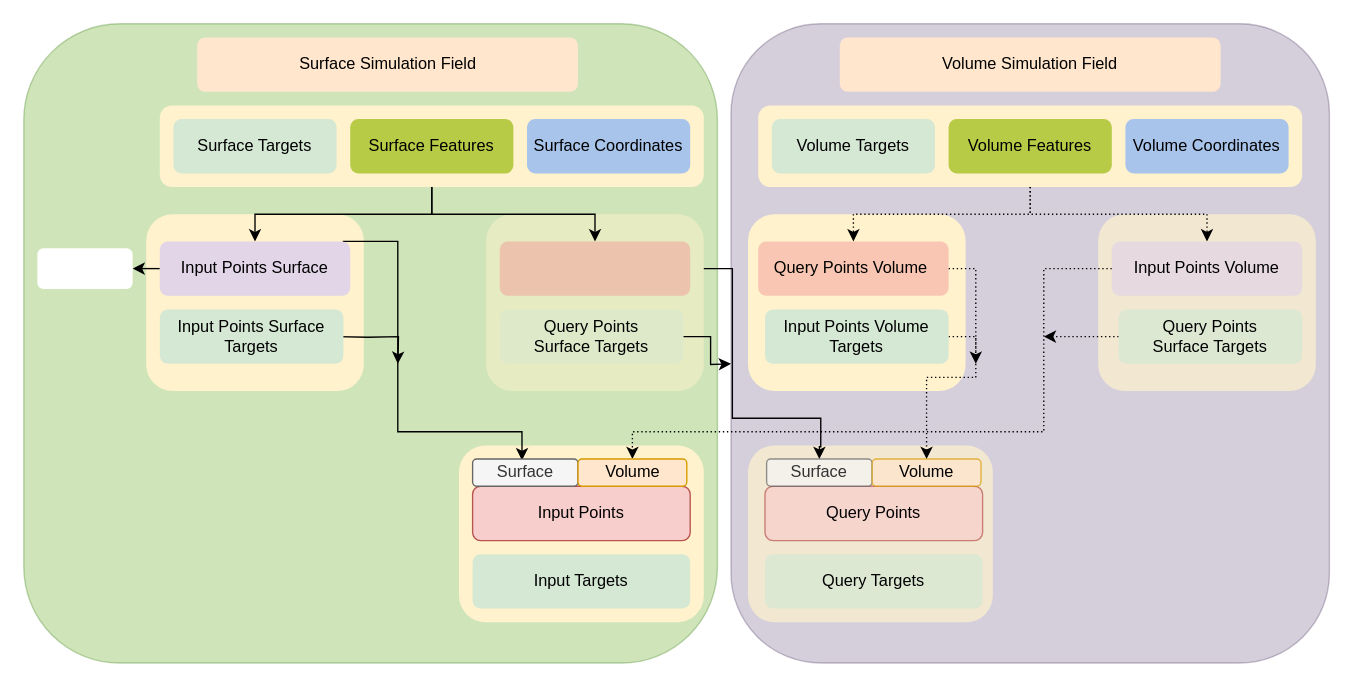
Image size: 1353x687. Some labels were removed from this diagram. The shapes that lost their labels are listed below. From the top down, each one's centre as x and y in pixels, then its label:
At (x=84, y=268): "Supernode idx".
At (x=594, y=268): "Query Points Surface".
